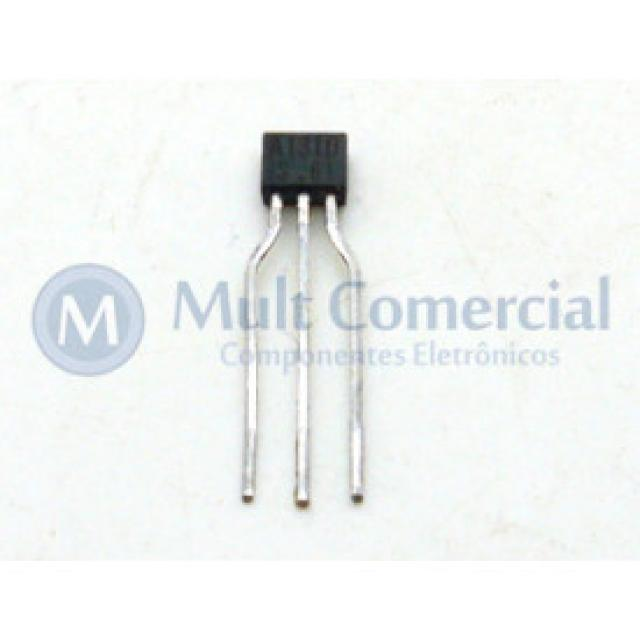Transistor: (238, 130, 366, 513)
